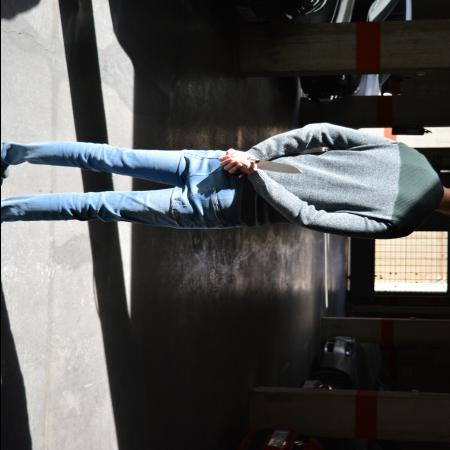long weapon: (240, 156, 306, 175)
